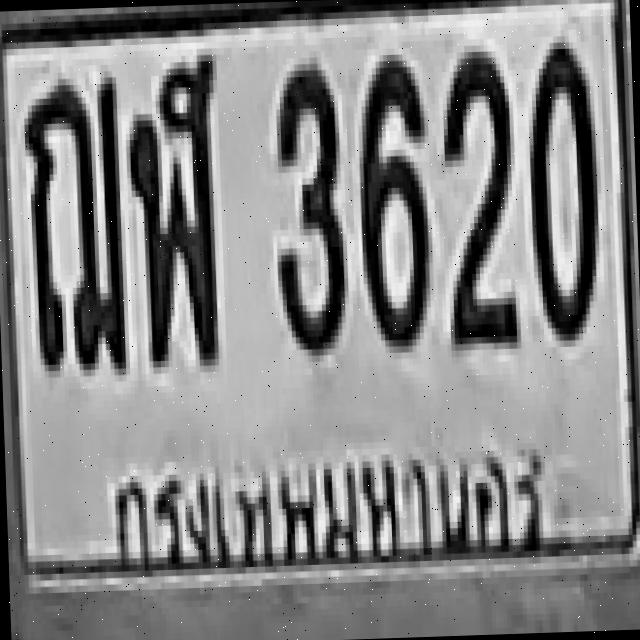0: (524, 35, 600, 341)
2: (436, 44, 516, 344)
21ChorChoe: (19, 70, 126, 372)
3: (266, 57, 342, 350)
51LorChula: (122, 52, 222, 364)
6: (354, 54, 429, 348)
Bangkok: (106, 424, 552, 599)
